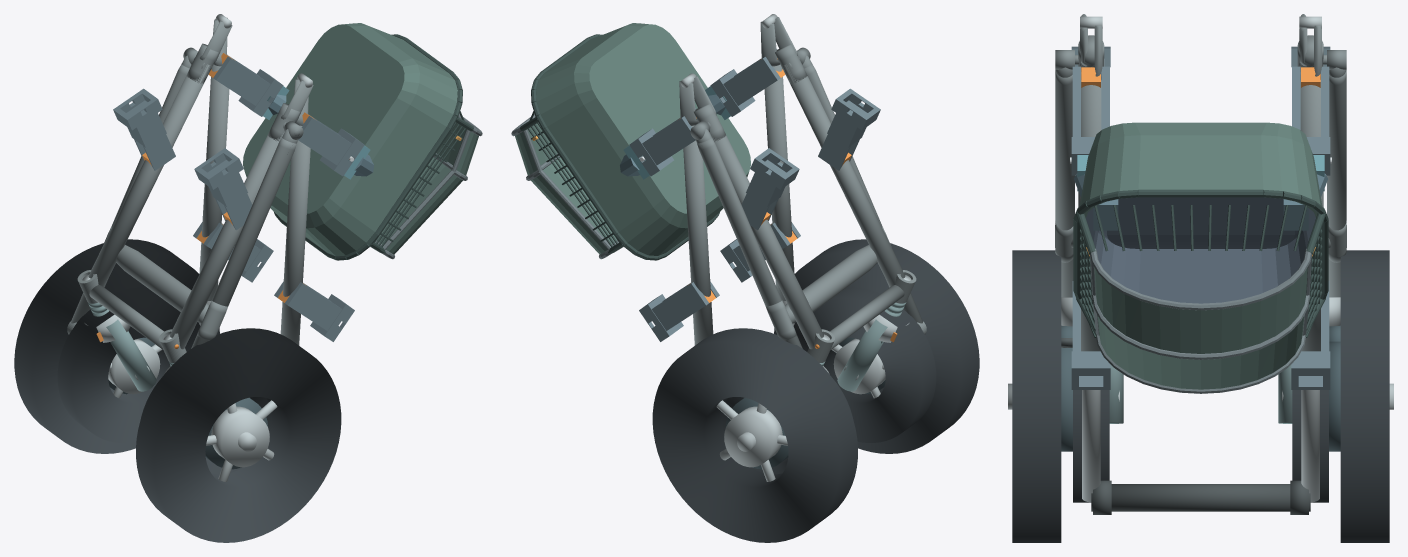
File: S02_w380_state3_wheel_L.glb
The picture shows the model from 3 angles, left to right: view 1: azimuth 30°, elevation 25°; view 2: azimuth 150°, elevation 25°; view 3: azimuth 270°, elevation 25°; orthographic projection. The views are drawn at different scales.
Visible parts, largest first — view 1: S02_Cabin, RL_tire.013, RR_tire.013, FR_tire.013, main_lower_1.001, main_upper_-1.001, main_lower_-1.001, V46_rear_leg_-1, Universal_Cabin_Receiver_L_1, Universal_Cabin_Receiver_L_-1, main_upper_1.001, RL_sealed_hub.013 (+13 smaller); view 2: S02_Cabin, RR_tire.013, RL_tire.013, FL_tire.013, main_lower_-1.001, main_upper_1.001, main_lower_1.001, V46_rear_leg_1, Universal_Cabin_Receiver_L_-1, Universal_Cabin_Receiver_L_1, main_upper_-1.001, RR_sealed_hub.013 (+16 smaller); view 3: S02_Cabin, RL_tire.013, RR_tire.013, round_handle.012, V46_rear_leg_1, V46_rear_leg_-1, S02_Cabin_Mount_M, handle_slider_1.012, handle_slider_-1.012, Universal_Cabin_Receiver_H_1, Universal_Cabin_Receiver_H_-1, FL_tire.013 (+13 smaller).
Boxes of the visible parts, x1=… form: S02_Cabin: x1=243, y1=23, x2=482, y2=260; RL_tire.013: x1=136, y1=328, x2=341, y2=542; RR_tire.013: x1=14, y1=239, x2=219, y2=453; FR_tire.013: x1=57, y1=287, x2=200, y2=442; main_lower_1.001: x1=88, y1=64, x2=210, y2=286; main_upper_-1.001: x1=280, y1=125, x2=310, y2=345; main_lower_-1.001: x1=170, y1=132, x2=284, y2=349; V46_rear_leg_-1: x1=191, y1=138, x2=296, y2=348; Universal_Cabin_Receiver_L_1: x1=113, y1=88, x2=175, y2=170; Universal_Cabin_Receiver_L_-1: x1=194, y1=148, x2=252, y2=230; main_upper_1.001: x1=199, y1=64, x2=229, y2=300; RL_sealed_hub.013: x1=211, y1=406, x2=269, y2=467; S02_Cabin: x1=511, y1=23, x2=750, y2=260; RR_tire.013: x1=652, y1=328, x2=857, y2=542; RL_tire.013: x1=774, y1=239, x2=979, y2=453; FL_tire.013: x1=793, y1=287, x2=936, y2=442; main_lower_-1.001: x1=783, y1=64, x2=905, y2=286; main_upper_1.001: x1=683, y1=125, x2=713, y2=345; main_lower_1.001: x1=709, y1=132, x2=823, y2=349; V46_rear_leg_1: x1=697, y1=138, x2=802, y2=348; Universal_Cabin_Receiver_L_-1: x1=818, y1=88, x2=880, y2=170; Universal_Cabin_Receiver_L_1: x1=741, y1=148, x2=799, y2=230; main_upper_-1.001: x1=764, y1=64, x2=794, y2=300; RR_sealed_hub.013: x1=724, y1=406, x2=782, y2=467; S02_Cabin: x1=1073, y1=122, x2=1328, y2=393; RL_tire.013: x1=1012, y1=250, x2=1061, y2=542; RR_tire.013: x1=1340, y1=250, x2=1389, y2=542; round_handle.012: x1=1091, y1=484, x2=1310, y2=511; V46_rear_leg_1: x1=1327, y1=70, x2=1346, y2=297; V46_rear_leg_-1: x1=1055, y1=70, x2=1074, y2=297; S02_Cabin_Mount_M: x1=1070, y1=155, x2=1331, y2=230; handle_slider_1.012: x1=1301, y1=390, x2=1319, y2=502; handle_slider_-1.012: x1=1082, y1=390, x2=1100, y2=502; Universal_Cabin_Receiver_H_1: x1=1291, y1=281, x2=1330, y2=389; Universal_Cabin_Receiver_H_-1: x1=1071, y1=281, x2=1110, y2=389; FL_tire.013: x1=1073, y1=390, x2=1109, y2=502.
Bounding box in the file's own units: 0.7265 × 0.7725 × 0.4748.
